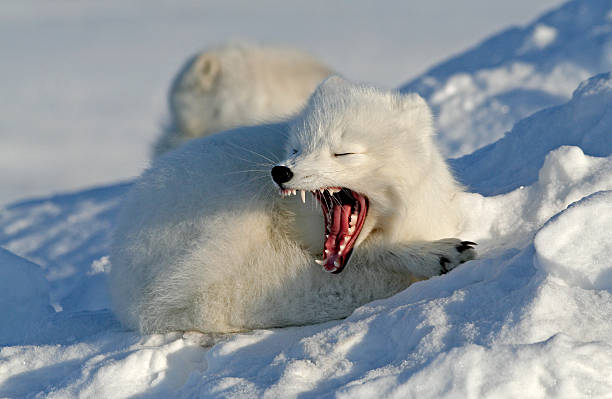arcticfox: (264, 105, 411, 295)
